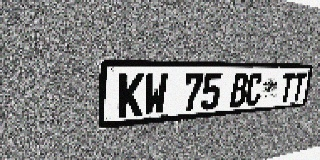5: (201, 73, 222, 110)
7: (181, 73, 204, 112)
B: (229, 73, 249, 108)
C: (245, 73, 264, 106)
K: (118, 73, 144, 118)
T: (279, 72, 296, 103), (290, 72, 307, 102)
W: (143, 73, 168, 116)
